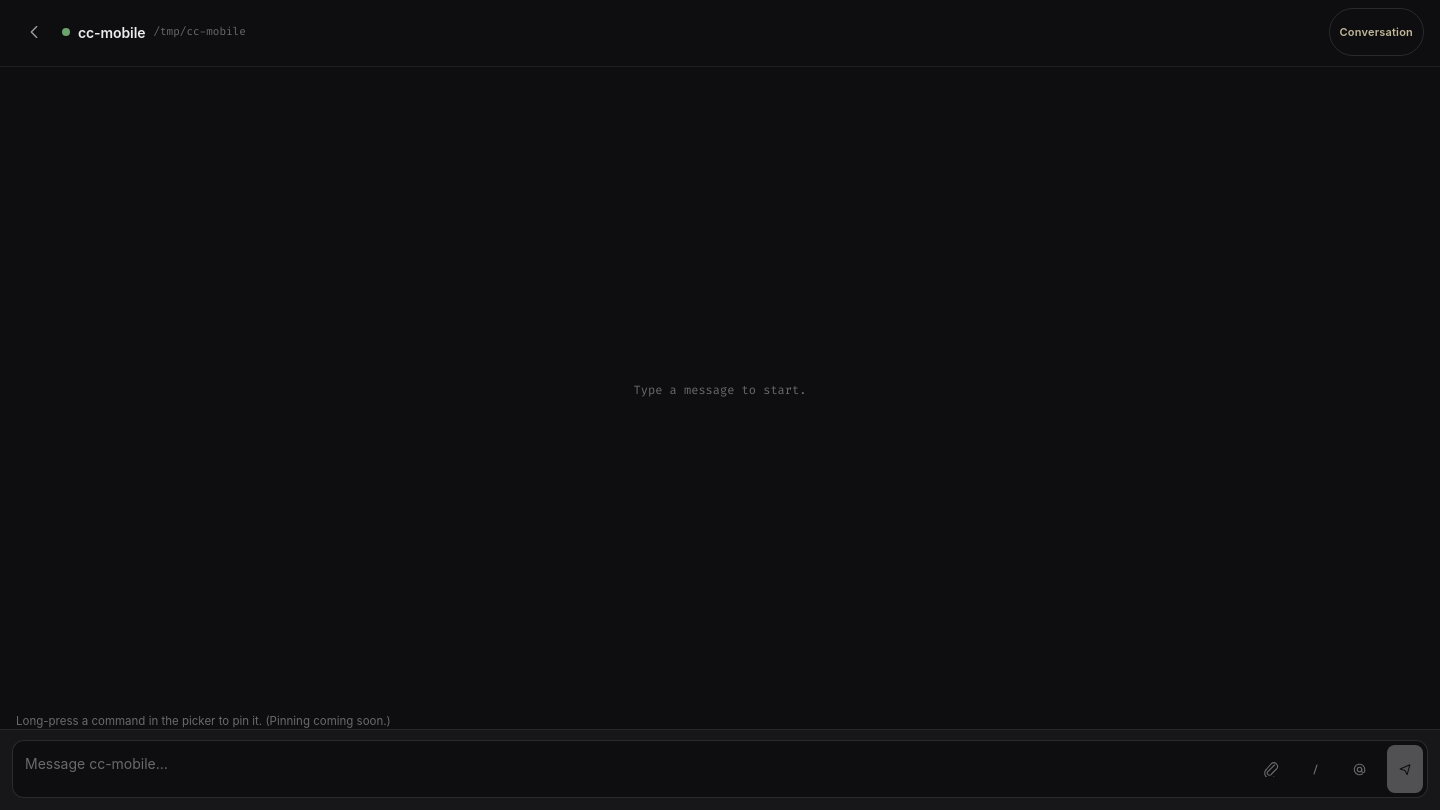
it: PickerSheetTerminates › T7: a bare command has no description row
The image size is (1440, 810).
Click the button named "Insert slash command": coordinates (1315, 769) 1297,745 -> 1333,793
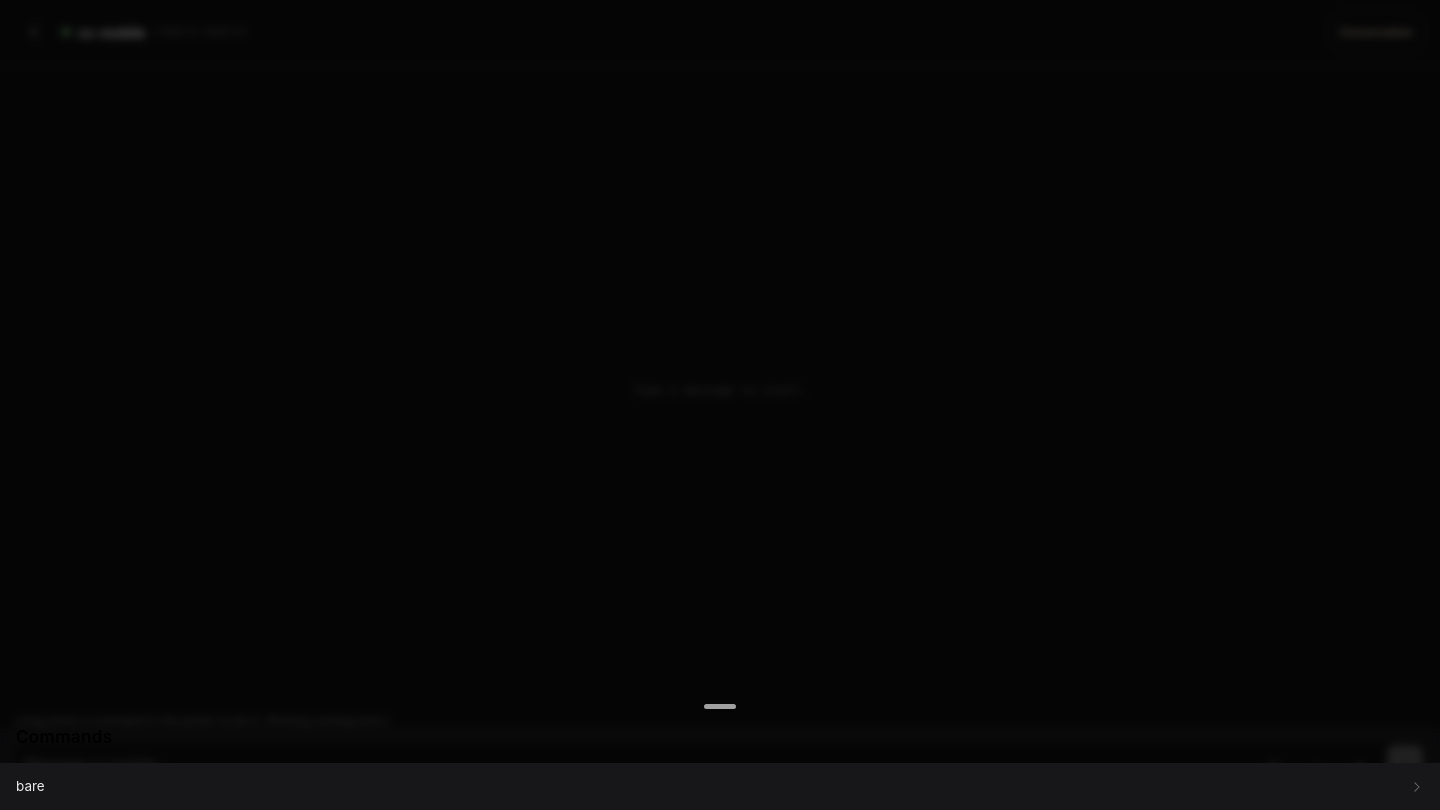
Expected: the text "bare" is shown, 16,778 -> 45,794
